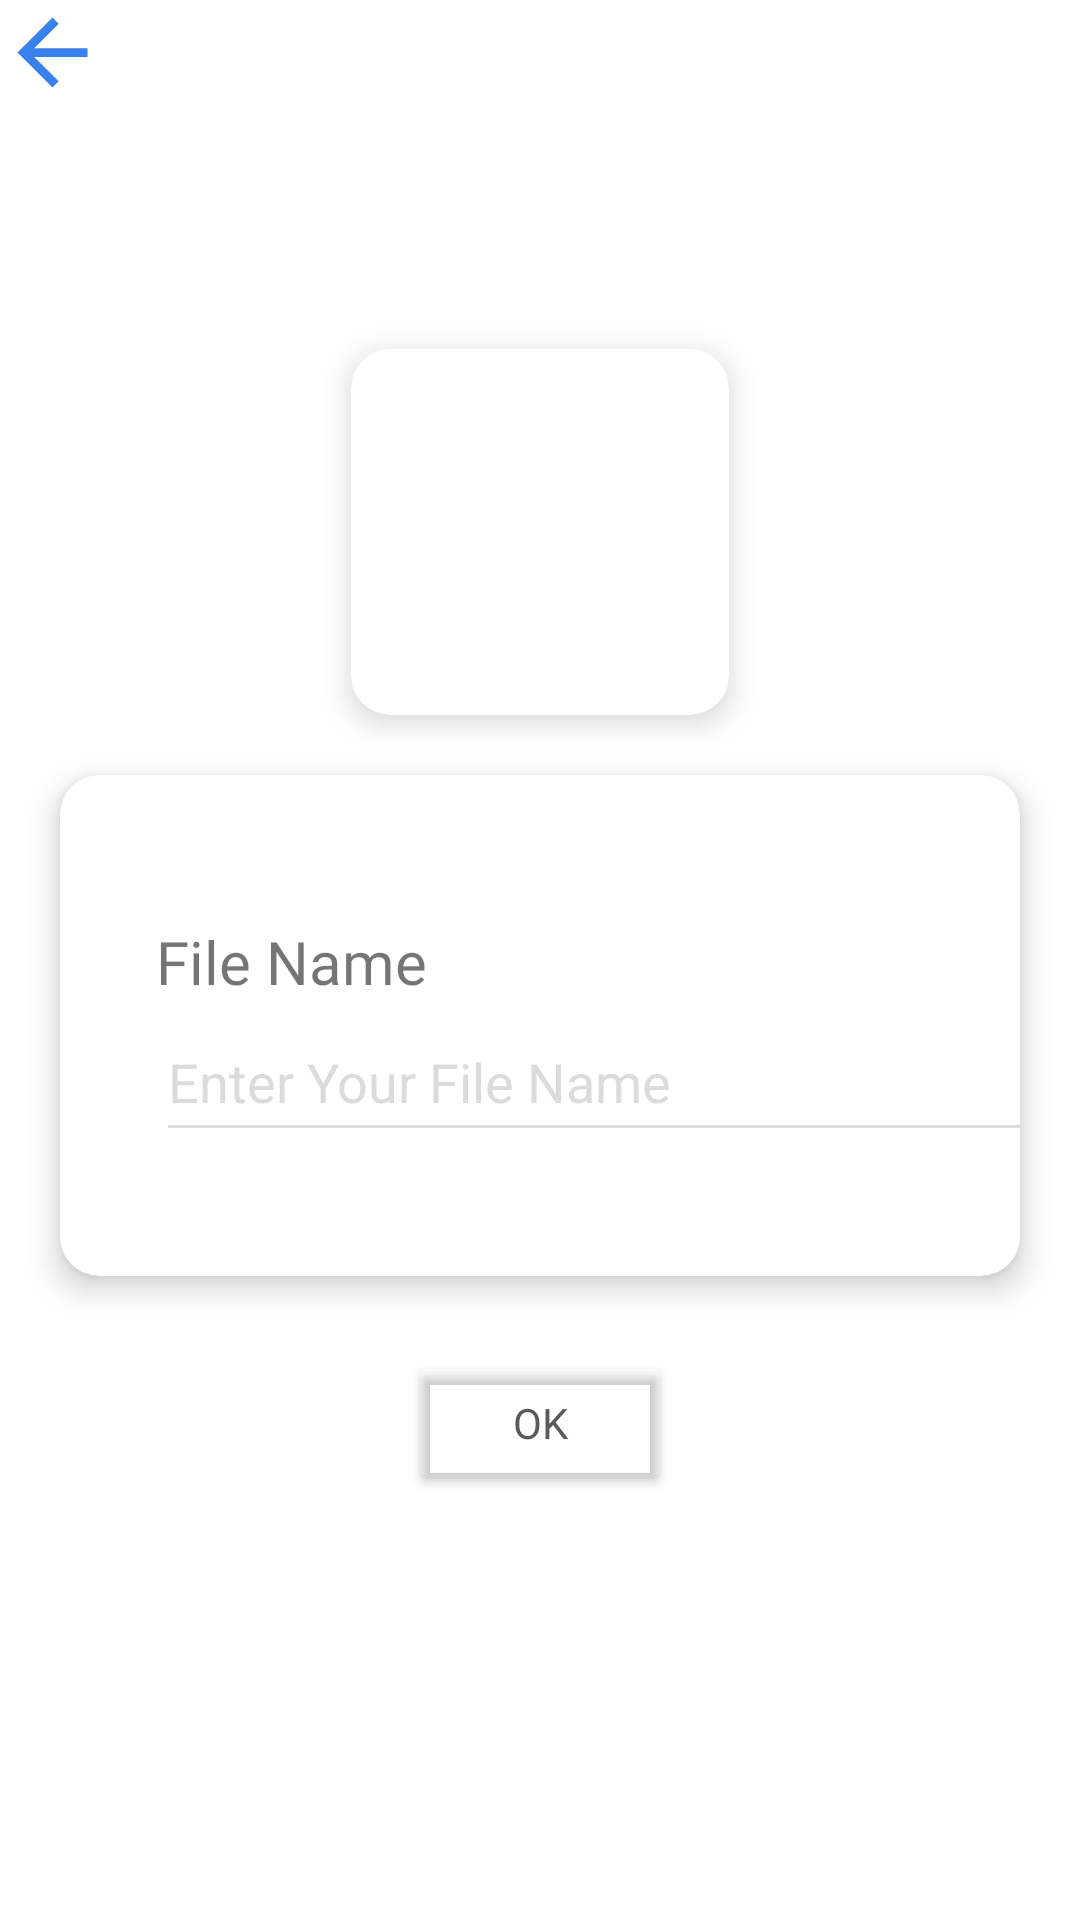

Screen size 1080 x 1920. Icon name, then its center in pixels as point (x, y):
arrow back: point (52, 52)
